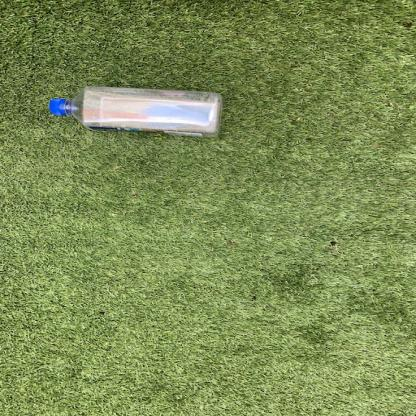trash: (50, 86, 224, 142)
